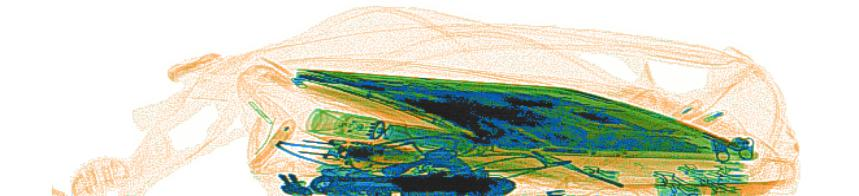battery: (381, 122, 461, 151)
